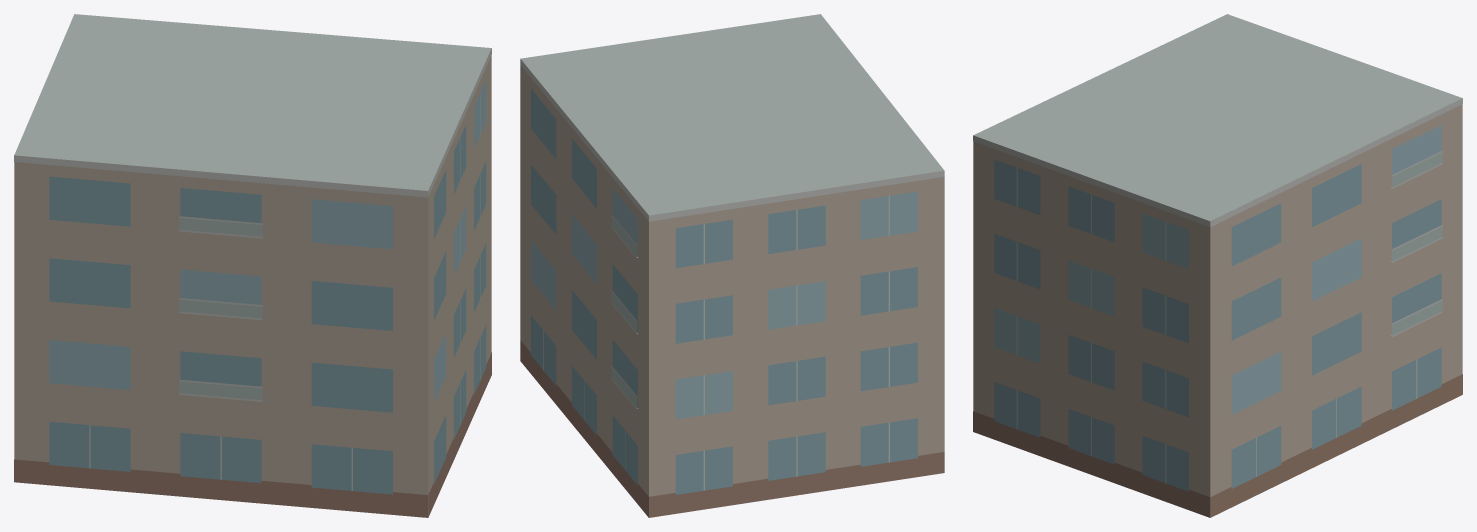
Rendered from survey-upis-32761272.glb.
The picture shows the model from 3 angles, left to right: view 1: azimuth 30°, elevation 25°; view 2: azimuth 150°, elevation 25°; view 3: azimuth 270°, elevation 25°; orthographic projection. The views are drawn at different scales.
Parts seen in each view (by area): view 1: survey-upis-32761272.tmp; view 2: survey-upis-32761272.tmp; view 3: survey-upis-32761272.tmp.
Boxes of the visible parts, <box> form: survey-upis-32761272.tmp: <box>14,14,491,517</box>; survey-upis-32761272.tmp: <box>520,14,944,517</box>; survey-upis-32761272.tmp: <box>973,14,1462,517</box>.
Bounding box in the file's own units: 18.3 × 12.2 × 18.26.
